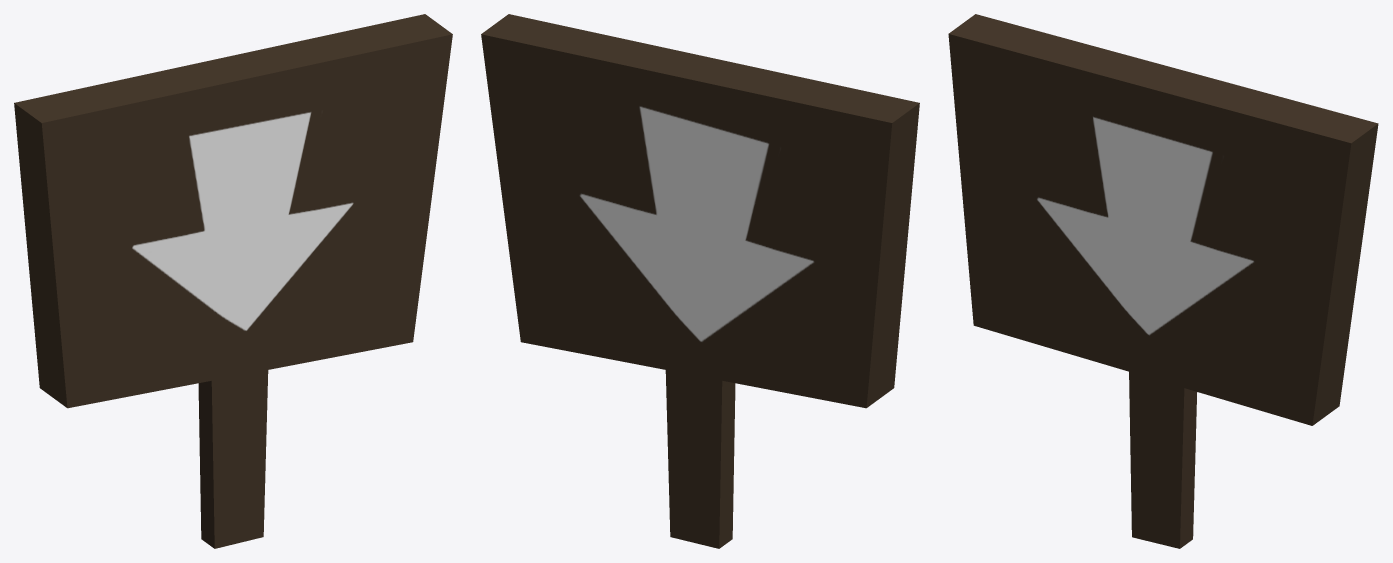
The model's file is build_sign.fbx.
The picture shows the model from 3 angles, left to right: view 1: azimuth 30°, elevation 25°; view 2: azimuth 150°, elevation 25°; view 3: azimuth 330°, elevation 25°; orthographic projection. The views are drawn at different scales.
Visible parts, largest first — view 1: build_sign; view 2: build_sign; view 3: build_sign.
Boxes of the visible parts, x1,y1,x2,y2 form: build_sign: (14,14,452,548); build_sign: (481,14,919,548); build_sign: (948,14,1378,548).
Size of the model in its own units: 153 by 169 by 17.85.
